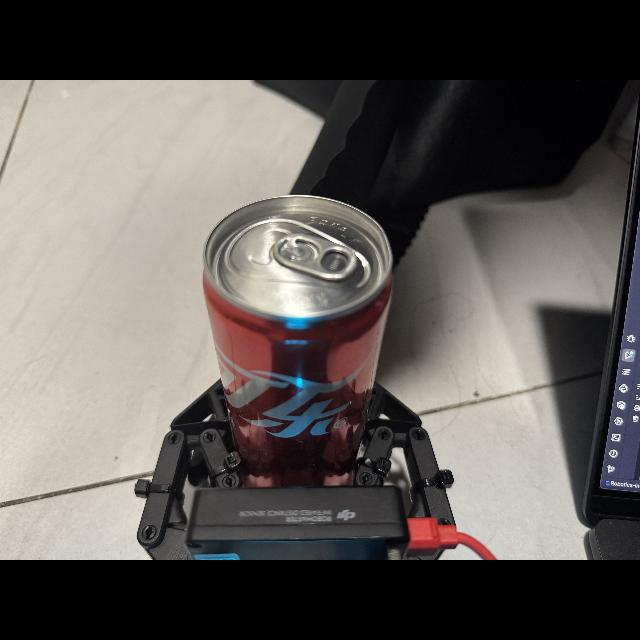Cola: (192, 188, 402, 476)
